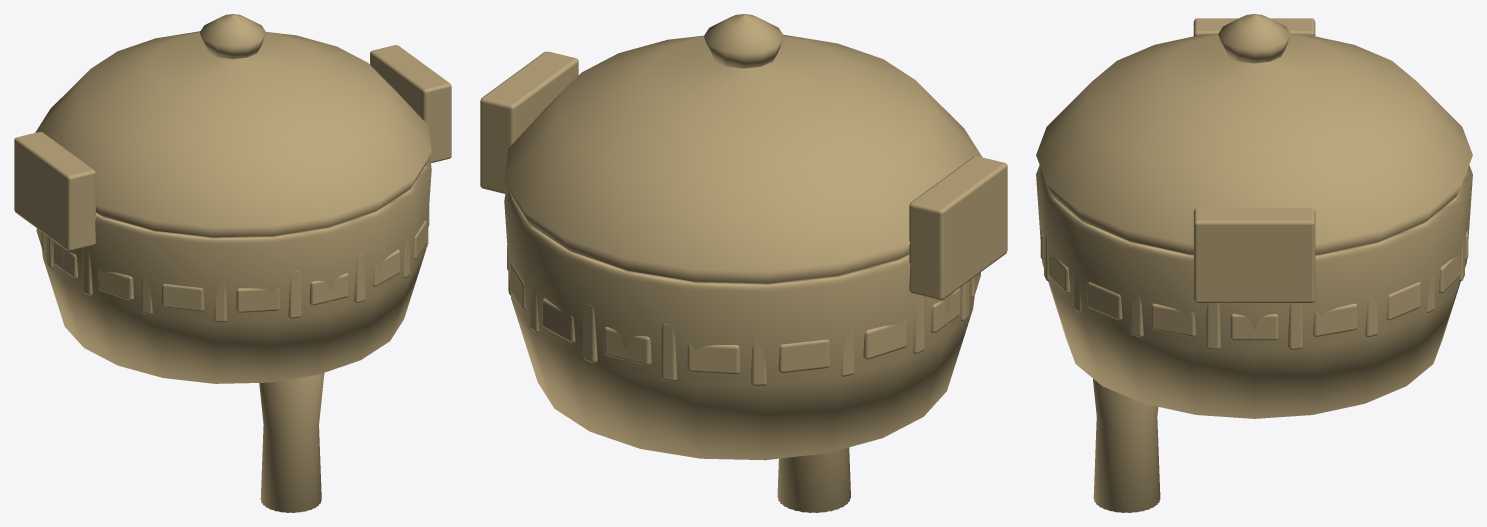
Rendered from cauldron.glb.
3 renders of one model, left to right at view 1: azimuth 30°, elevation 25°; view 2: azimuth 150°, elevation 25°; view 3: azimuth 270°, elevation 25°, orthographic. The views are drawn at different scales.
Parts seen in each view (by area): view 1: bronze-tripod-cauldron, lid; view 2: bronze-tripod-cauldron, lid; view 3: bronze-tripod-cauldron, lid.
Part boxes in pixels (x1,y1,x2,y2): bronze-tripod-cauldron: [14, 45, 451, 512]; lid: [35, 14, 431, 237]; bronze-tripod-cauldron: [480, 51, 1007, 512]; lid: [504, 14, 981, 283]; bronze-tripod-cauldron: [1036, 18, 1472, 512]; lid: [1036, 14, 1472, 254].
Bounding box in the file's own units: 1.6 × 1.76 × 1.44.
